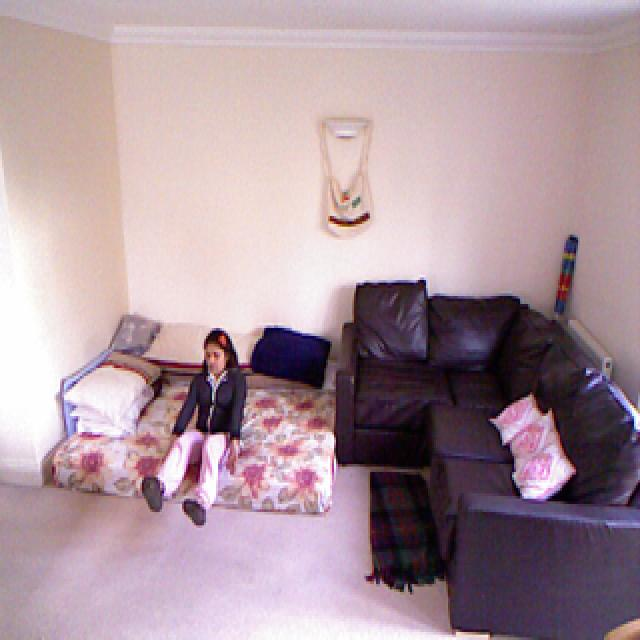sitting: (139, 327, 252, 528)
